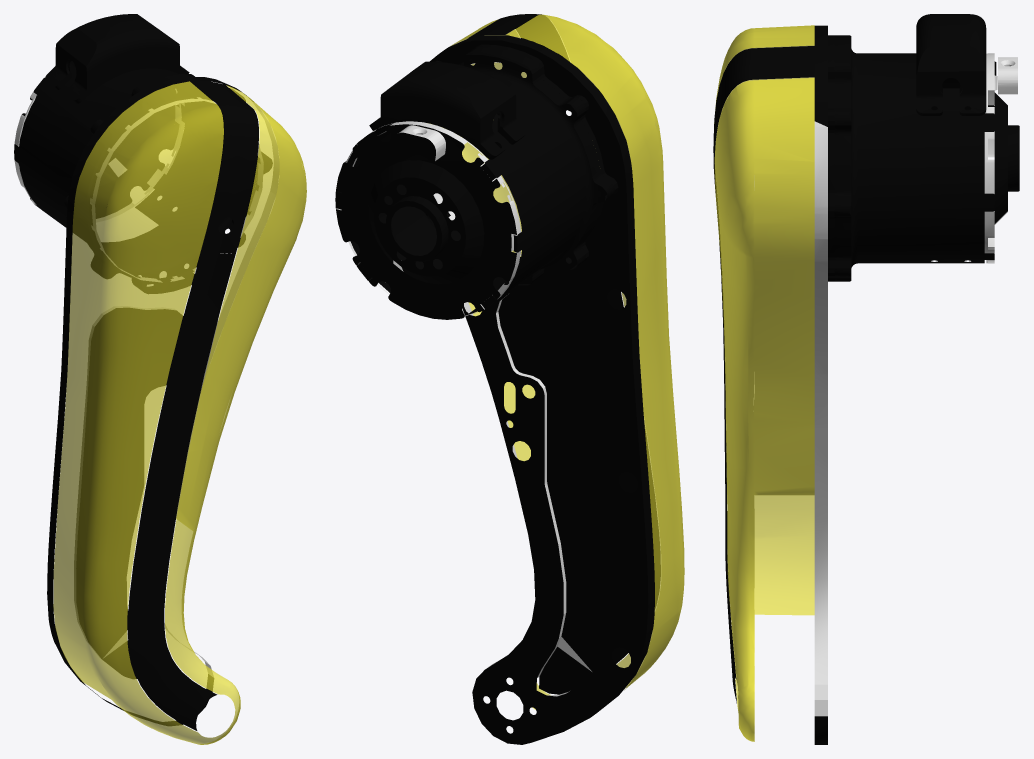
File: R_THIGH2.dae
3 renders of one model, left to right at view 1: azimuth 30°, elevation 25°; view 2: azimuth 150°, elevation 25°; view 3: azimuth 270°, elevation 25°, orthographic. The views are drawn at different scales.
Parts seen in each view (by area): view 1: FR_THIGH_-_____________-1.101, FR_THIGH_-_____________-1.098, FR_THIGH_-_____________-1.100, FR_THIGH_-_____________-1.075, FR_THIGH_-_____________-1.099, FR_THIGH_-_____________-1.088, FR_THIGH_-_____________-1, FR_THIGH_-_____________-1.089, FR_THIGH_-_____________-1.093, FR_THIGH_-_____________-1.067, FR_THIGH_-_____________-1.074; view 2: FR_THIGH_-_____________-1.097, FR_THIGH_-_____________-1.101, FR_THIGH_-_____________-1.075, FR_THIGH_-_____________-1, FR_THIGH_-_____________-1.098, FR_THIGH_-_____________-1.099, FR_THIGH_-_____________-1.088, FR_THIGH_-_____________-1.100, FR_THIGH_-_____________-1.074; view 3: FR_THIGH_-_____________-1.101, FR_THIGH_-_____________-1.098, FR_THIGH_-_____________-1.099, FR_THIGH_-_____________-1.089, FR_THIGH_-_____________-1.100, FR_THIGH_-_____________-1, FR_THIGH_-_____________-1.088, FR_THIGH_-_____________-1.087, FR_THIGH_-_____________-1.063.
Boxes of the visible parts, x1,y1,x2,y2 form: FR_THIGH_-_____________-1.101: (53, 81, 306, 744); FR_THIGH_-_____________-1.098: (14, 63, 272, 293); FR_THIGH_-_____________-1.100: (128, 81, 258, 730); FR_THIGH_-_____________-1.075: (76, 308, 183, 658); FR_THIGH_-_____________-1.099: (45, 14, 189, 103); FR_THIGH_-_____________-1.088: (47, 77, 253, 725); FR_THIGH_-_____________-1: (18, 61, 179, 218); FR_THIGH_-_____________-1.089: (164, 191, 275, 656); FR_THIGH_-_____________-1.093: (127, 97, 263, 273); FR_THIGH_-_____________-1.067: (74, 326, 100, 658); FR_THIGH_-_____________-1.074: (102, 640, 137, 678); FR_THIGH_-_____________-1.097: (418, 40, 648, 744); FR_THIGH_-_____________-1.101: (427, 14, 684, 709); FR_THIGH_-_____________-1.075: (498, 290, 618, 671); FR_THIGH_-_____________-1: (336, 124, 516, 319); FR_THIGH_-_____________-1.098: (335, 44, 618, 314); FR_THIGH_-_____________-1.099: (369, 61, 526, 159); FR_THIGH_-_____________-1.088: (441, 35, 654, 715); FR_THIGH_-_____________-1.100: (467, 14, 660, 663); FR_THIGH_-_____________-1.074: (539, 647, 592, 694); FR_THIGH_-_____________-1.101: (714, 25, 814, 741); FR_THIGH_-_____________-1.098: (828, 35, 994, 281); FR_THIGH_-_____________-1.099: (916, 14, 986, 115); FR_THIGH_-_____________-1.089: (814, 238, 827, 684); FR_THIGH_-_____________-1.100: (713, 46, 814, 703); FR_THIGH_-_____________-1: (994, 61, 1019, 223); FR_THIGH_-_____________-1.088: (814, 25, 827, 744); FR_THIGH_-_____________-1.087: (814, 121, 827, 239); FR_THIGH_-_____________-1.063: (984, 132, 994, 193).
Size of the model in its own units: 0.0856 by 0.0918 by 0.2367.
